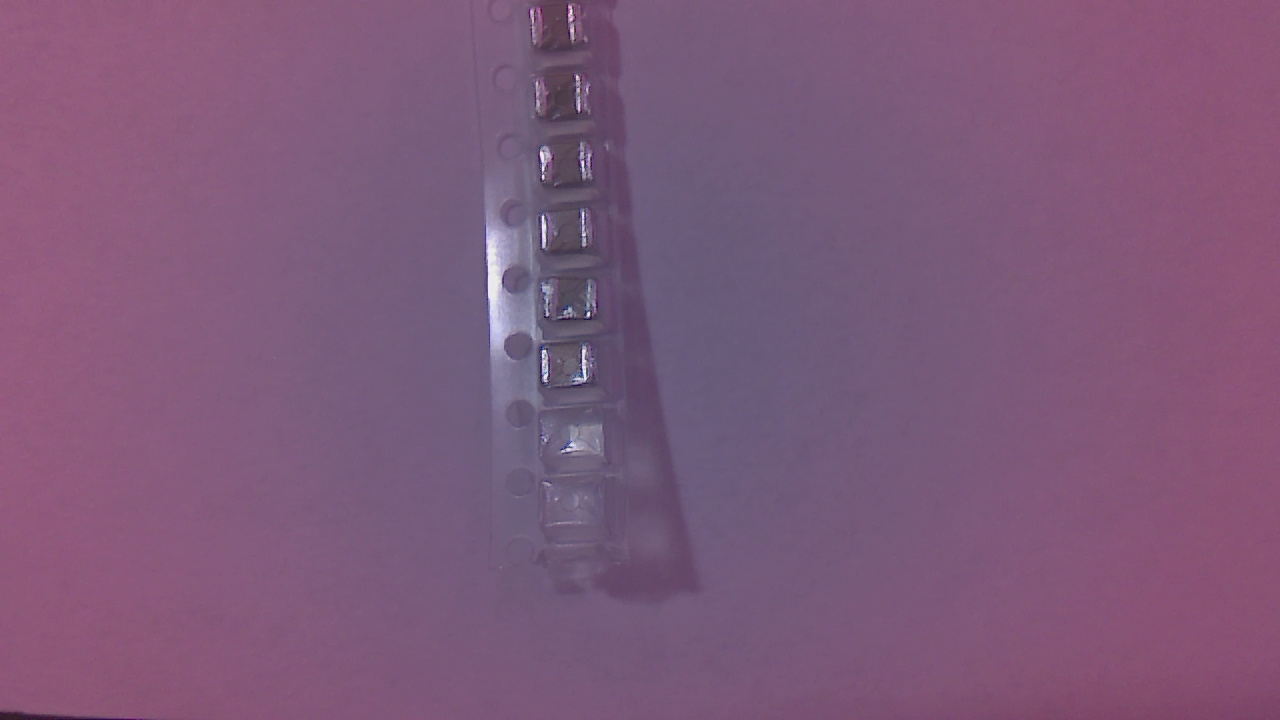Condensator: (538, 75, 599, 126), (541, 281, 605, 326), (544, 210, 600, 260), (541, 348, 601, 392), (542, 143, 599, 189), (533, 10, 593, 53)
